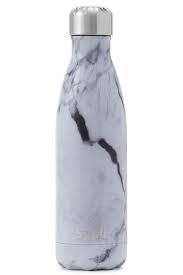Container for household chemicals: (48, 6, 141, 275)
